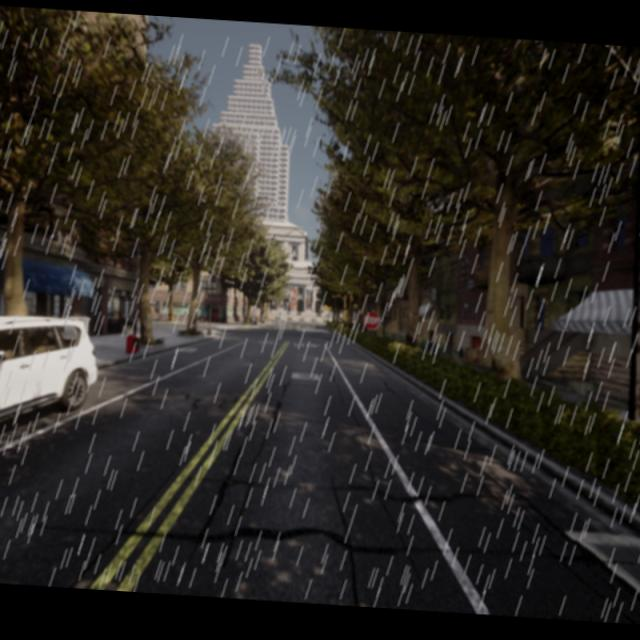stop sign: (361, 306, 382, 332)
